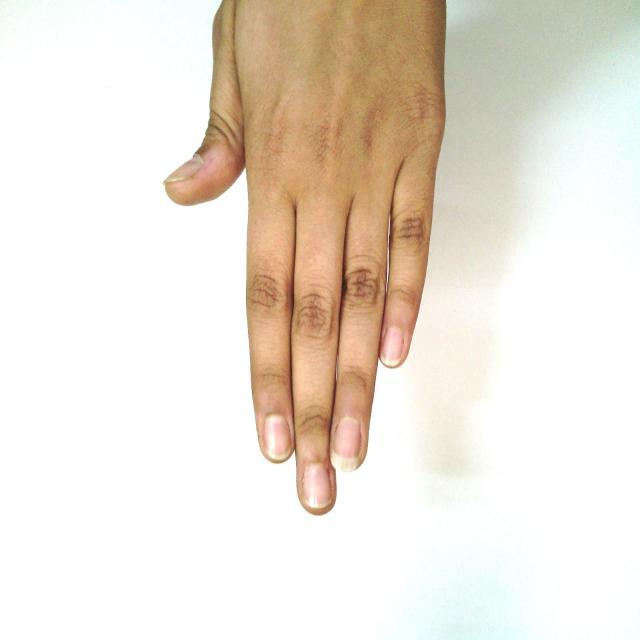Fingernail: (332, 419, 362, 471), (303, 463, 331, 509), (265, 415, 291, 460), (165, 157, 201, 182), (382, 328, 402, 364)
